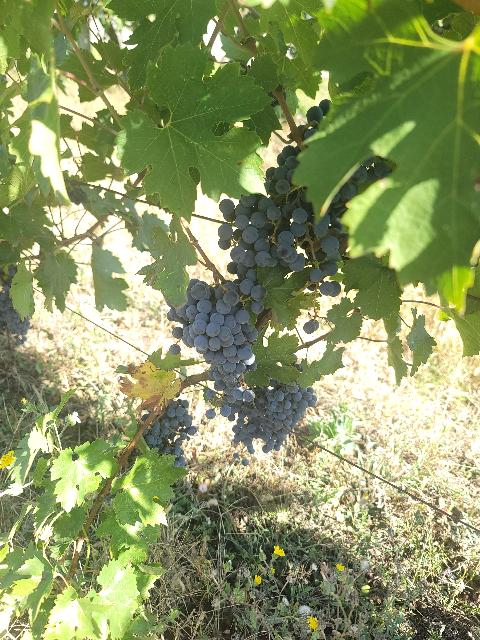grapes: (175, 279, 259, 401), (228, 194, 308, 312), (246, 380, 316, 452), (145, 400, 196, 466)
